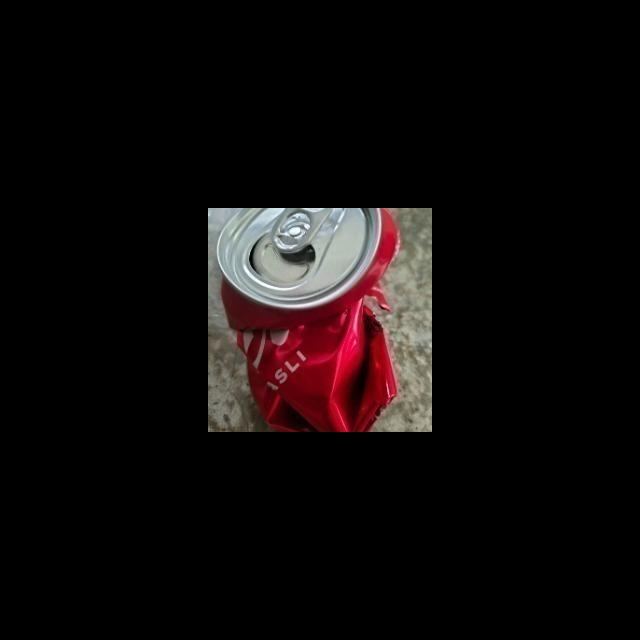metal: (210, 208, 420, 432)
